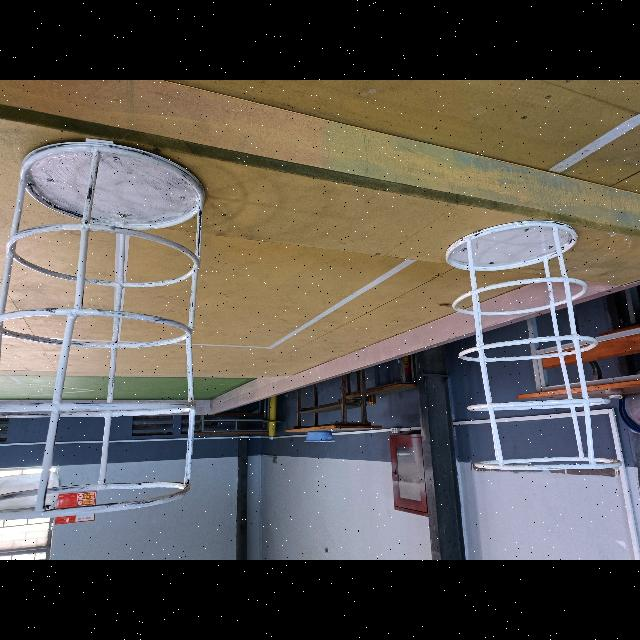S: (0, 139, 207, 522), (445, 219, 624, 473)
